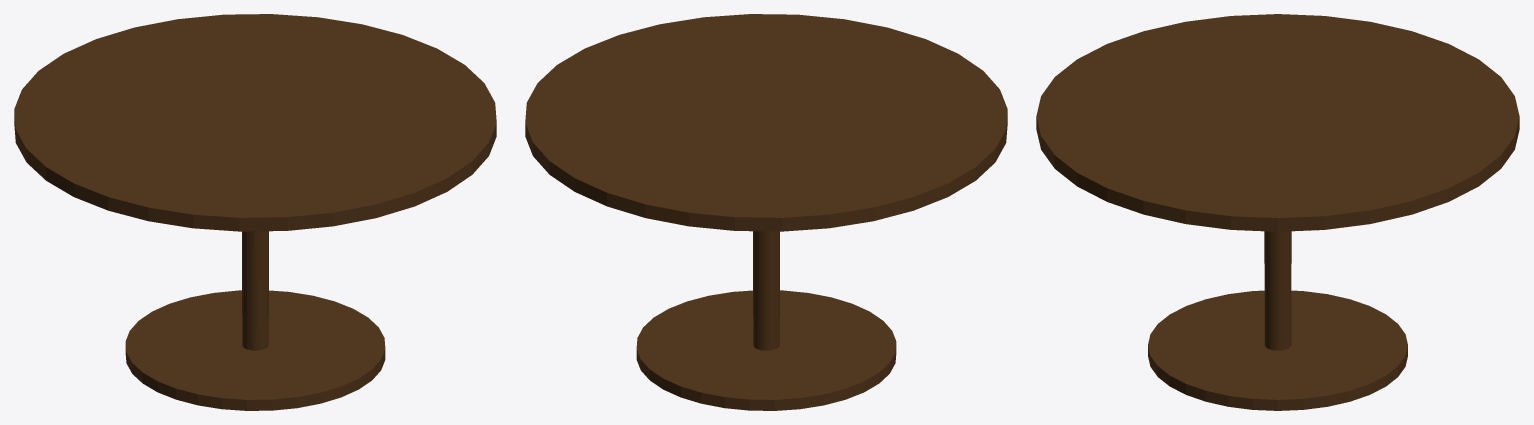
The model's file is Poyta.fbx.
3 views of the same model, side by side, from view 1: azimuth 30°, elevation 25°; view 2: azimuth 150°, elevation 25°; view 3: azimuth 270°, elevation 25° (orthographic).
Visible parts, largest first — view 1: pöytä.005; view 2: pöytä.005; view 3: pöytä.005.
Part boxes in pixels (left/top/right/bottom): pöytä.005: left=14, top=14, right=496, bottom=410; pöytä.005: left=525, top=14, right=1007, bottom=410; pöytä.005: left=1036, top=14, right=1519, bottom=410.
Size of the model in its own units: 236 by 129 by 236.
